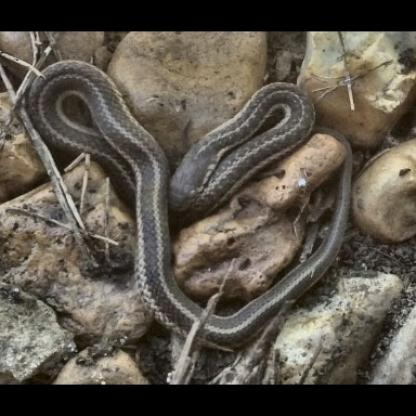Snake: (25, 56, 356, 350)
